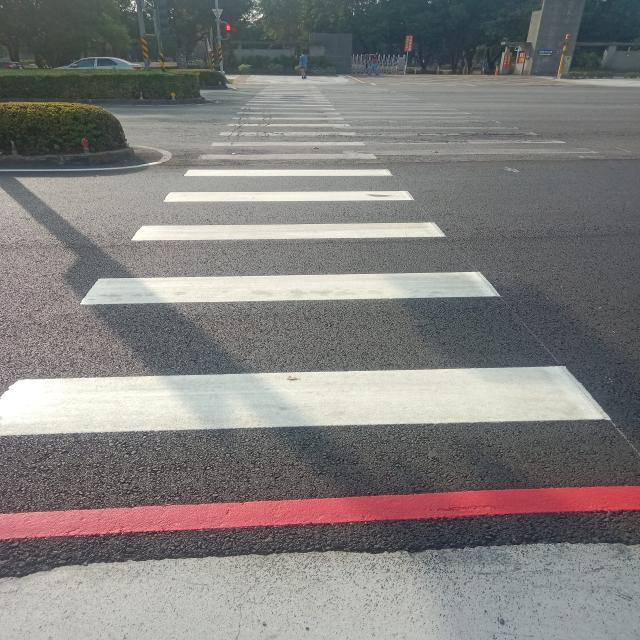zebra_crossing: (241, 0, 247, 304)
